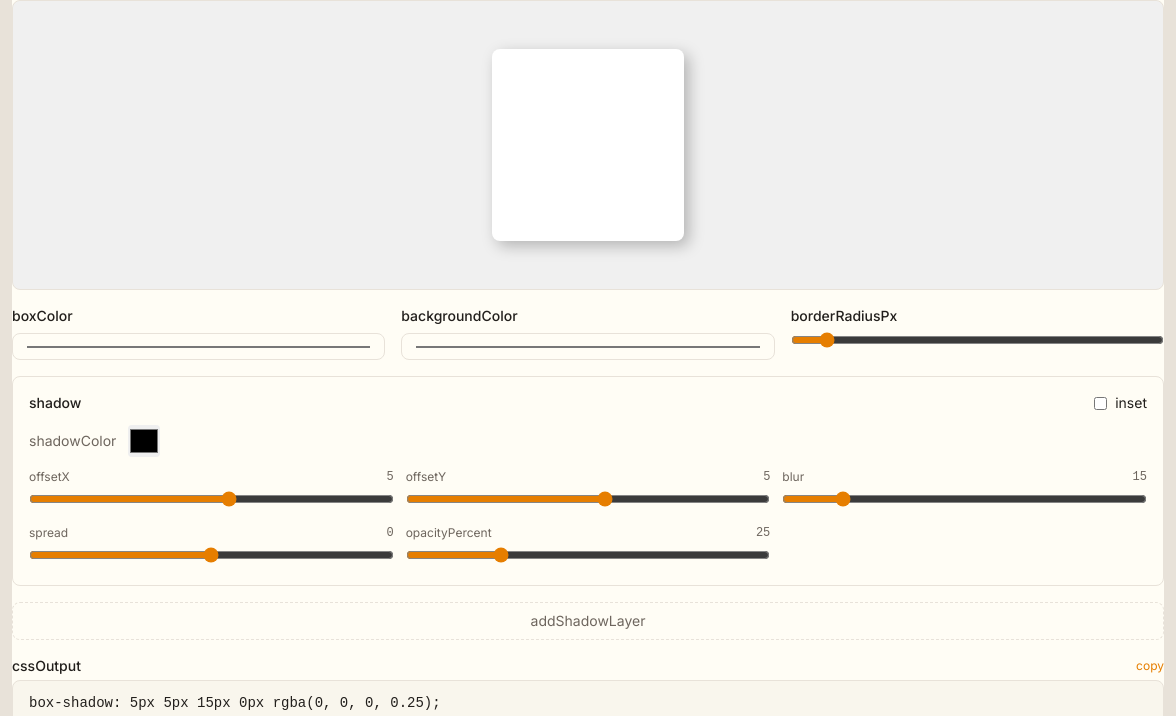
CssBoxShadowGenerator › toggles inset
Click the checkbox named "toggleInset". click: {"x": 1101, "y": 403}
box: [1094,396,1107,410]
(page scrolled)
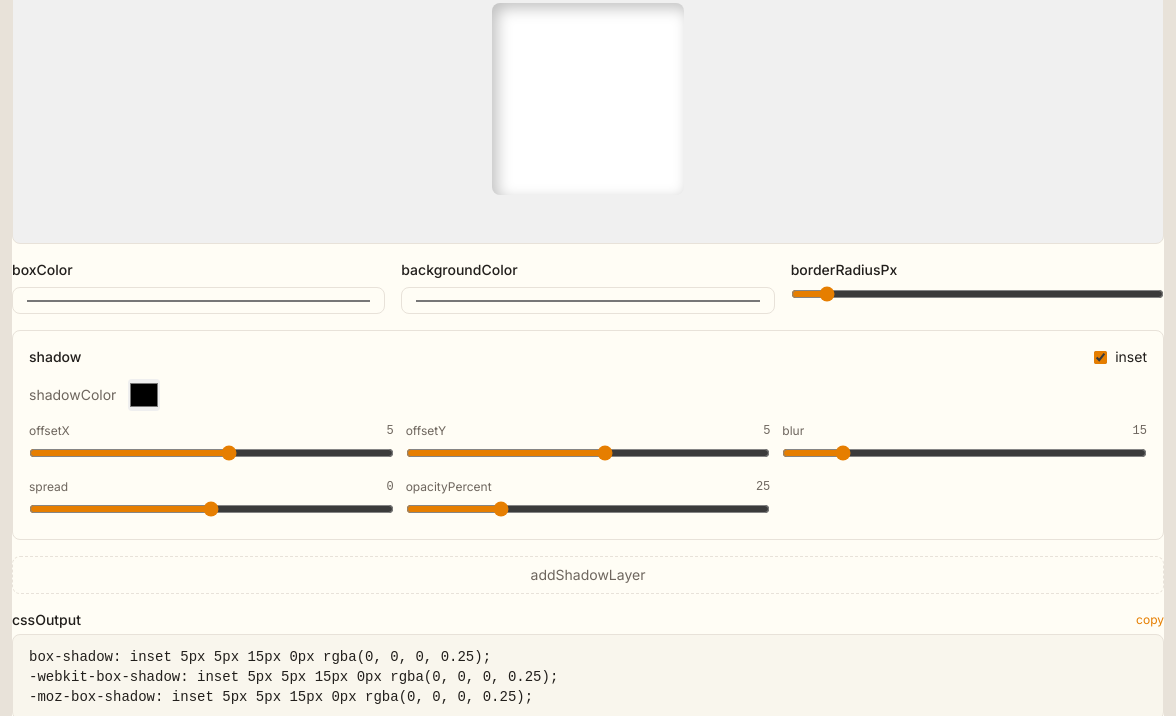
Now the checkbox named "toggleInset" is checked, box [1094,350,1107,364]
Now the text "box-shadow:" shows "inset", box [29,649,558,705]
